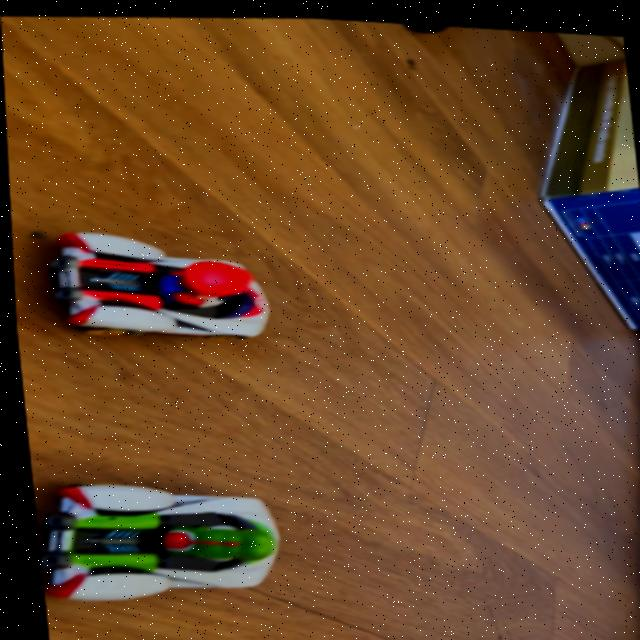mario: (25, 214, 294, 357)
yoshi: (31, 465, 304, 628)
